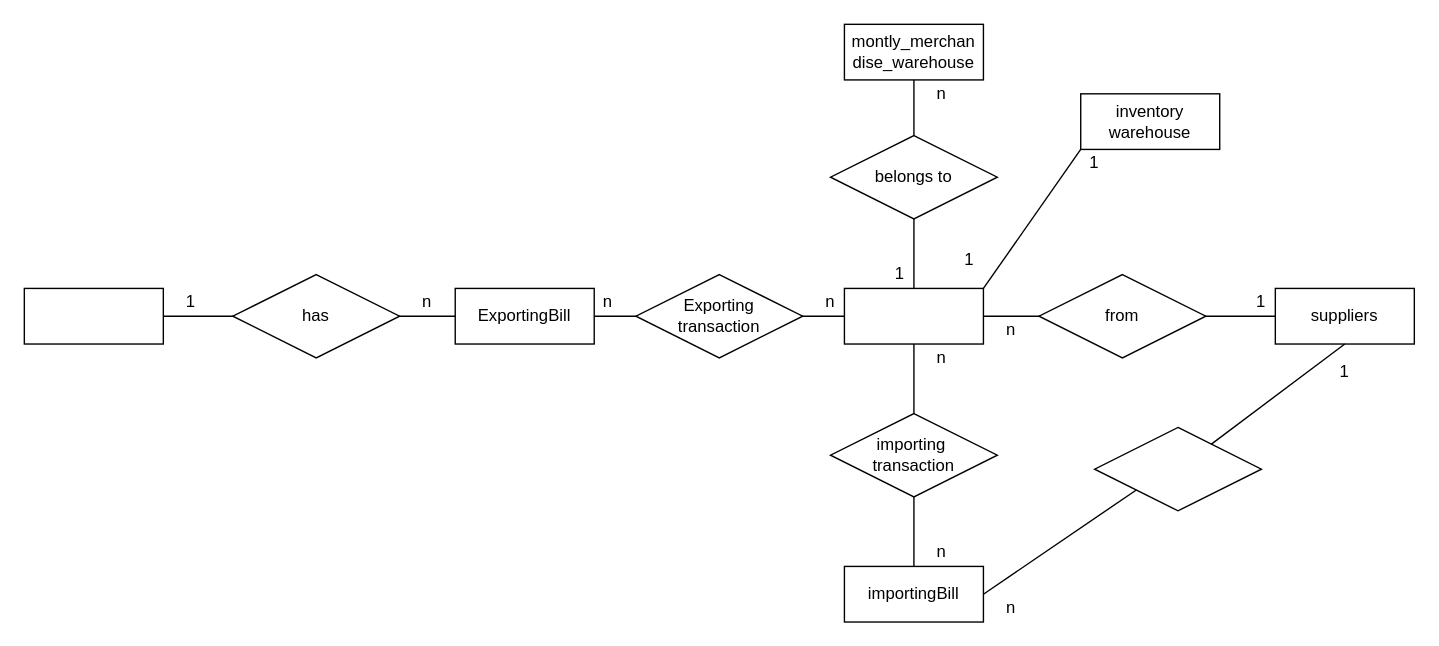
Some shapes in this 1439 by 646 pixel diagram are drawn without their labels. Here are the shapes that lost their labels. From the top down, the box of each, then its label:
(23, 287, 163, 344): customers
(843, 287, 983, 344): merchandise
(1093, 426, 1261, 511): of
